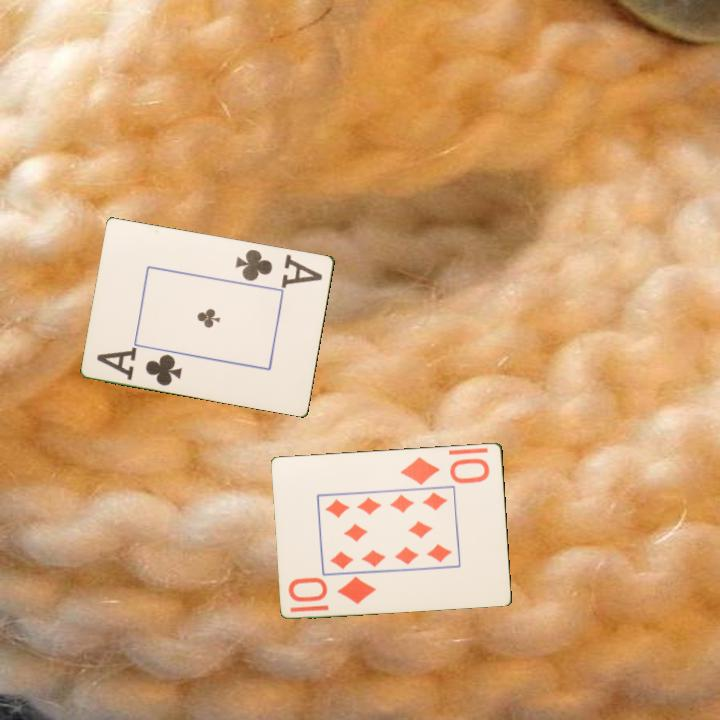10d: (397, 453, 493, 488), (285, 573, 379, 607)
Ac: (232, 245, 326, 290), (93, 344, 185, 388)
